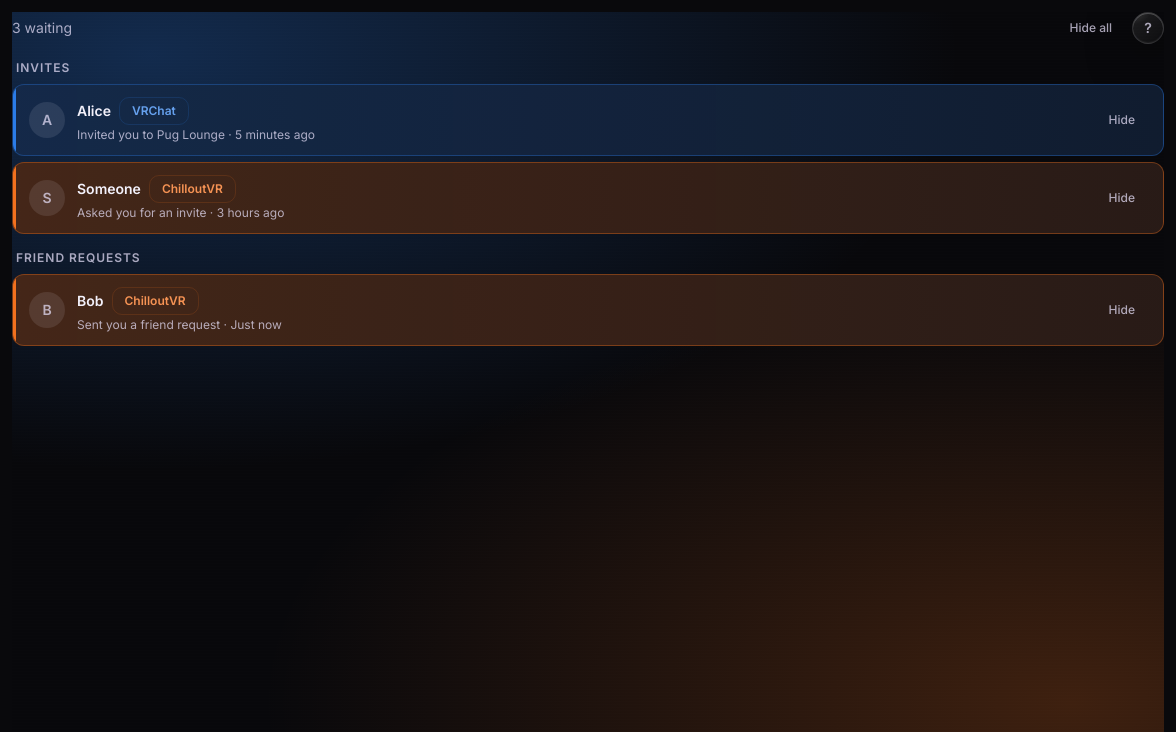
InboxView › says so when hiding fails, and keeps the row
Click the button "Hide" in the row of "Alice" at (1122, 120), box [1097, 108, 1147, 132]
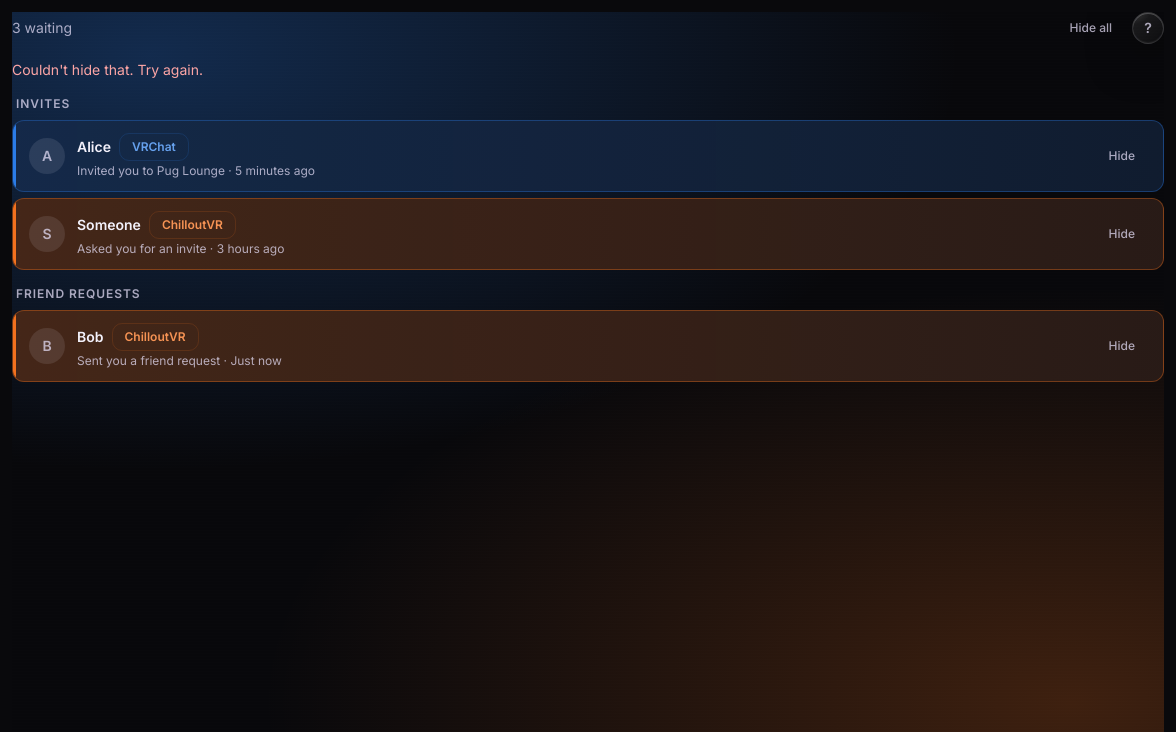
Expected: the text "Alice" is shown, [77, 137, 111, 157]
Now the message reads "Couldn't hide that. Try again.", box [12, 61, 203, 78]
